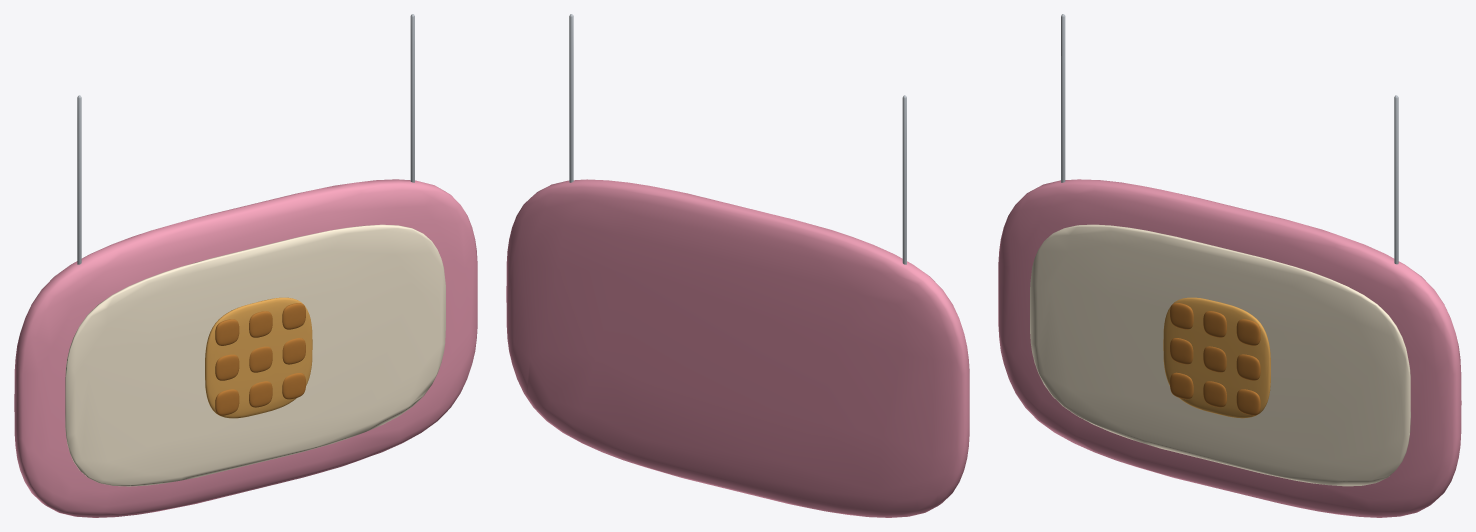
Rendered from letrero_wafles.glb.
3 views of the same model, side by side, from view 1: azimuth 30°, elevation 25°; view 2: azimuth 150°, elevation 25°; view 3: azimuth 330°, elevation 25° (orthographic).
Parts seen in each view (by area): view 1: placa letrero.001, letrero sección.001, wafle.002, cadena letrero.002, cadena letrero.003, hueco.011, hueco.009, hueco.010, hueco.017, hueco.014, hueco.012, hueco.015 (+2 smaller); view 2: letrero sección.001, cadena letrero.002, cadena letrero.003; view 3: placa letrero.001, letrero sección.001, wafle.002, cadena letrero.003, cadena letrero.002, hueco.017, hueco.015, hueco.016, hueco.014, hueco.011, hueco.012, hueco.009 (+2 smaller).
Boxes of the visible parts, <box> form: placa letrero.001: <box>65,224,445,486</box>; letrero sección.001: <box>14,179,477,517</box>; wafle.002: <box>205,297,312,418</box>; cadena letrero.002: <box>77,95,81,264</box>; cadena letrero.003: <box>410,14,414,182</box>; hueco.011: <box>215,319,239,345</box>; hueco.009: <box>215,389,239,415</box>; hueco.010: <box>215,354,239,380</box>; hueco.017: <box>282,303,305,329</box>; hueco.014: <box>249,311,272,337</box>; hueco.012: <box>249,381,272,407</box>; hueco.015: <box>282,373,305,399</box>; letrero sección.001: <box>506,179,969,517</box>; cadena letrero.002: <box>902,95,906,264</box>; cadena letrero.003: <box>569,14,573,182</box>; placa letrero.001: <box>1030,224,1410,486</box>; letrero sección.001: <box>998,179,1461,517</box>; wafle.002: <box>1163,297,1270,418</box>; cadena letrero.003: <box>1394,95,1398,264</box>; cadena letrero.002: <box>1061,14,1065,182</box>; hueco.017: <box>1236,319,1260,345</box>; hueco.015: <box>1236,389,1260,415</box>; hueco.016: <box>1236,354,1260,380</box>; hueco.014: <box>1203,311,1226,337</box>; hueco.011: <box>1170,303,1193,329</box>; hueco.012: <box>1203,381,1226,407</box>; hueco.009: <box>1170,372,1193,399</box>.
Bounding box in the file's own units: 1.16 × 1.05 × 0.1083.
